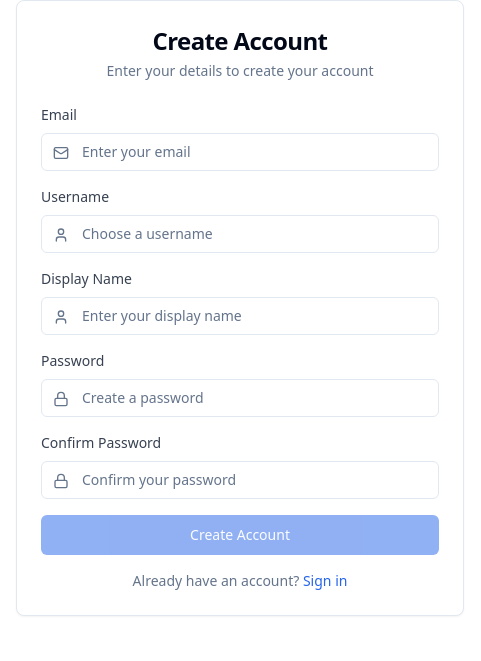
it: SignUpForm Security › Email Input Security › should sanitize malicious email input
This screenshot has width=481, height=661.
In the field labelled "Email": (240, 152) [41,133,439,171], type "<script>alert(\"xss\")</script>user@example.com"
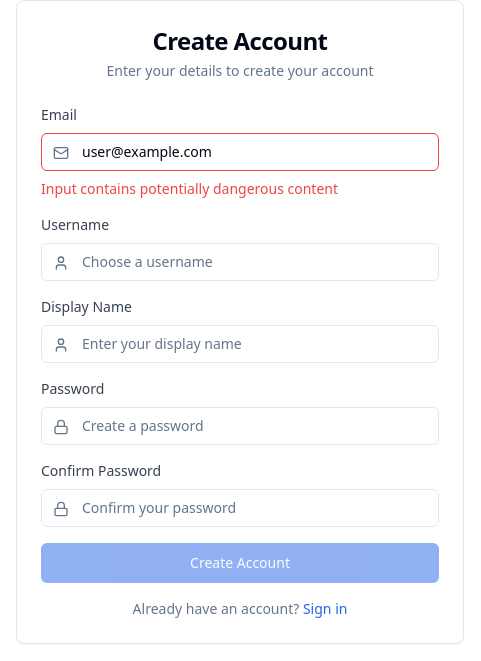
Now the field labelled "Email" holds "user@example.com", box [41,133,439,171]
